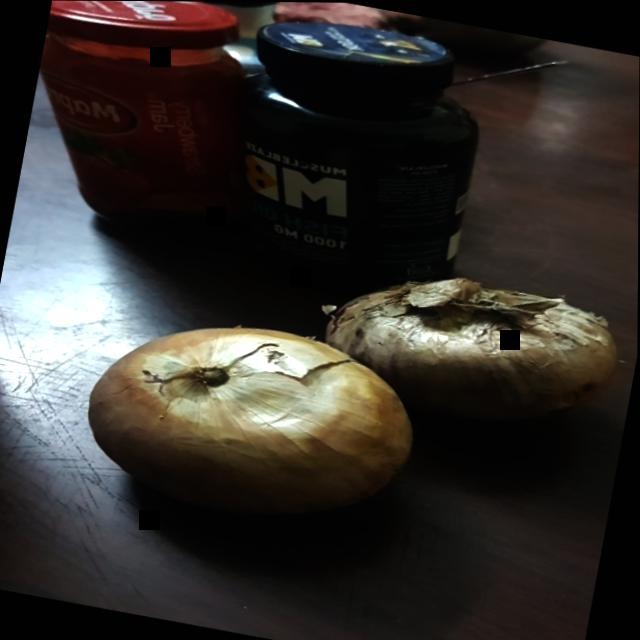onion: (65, 287, 444, 547), (307, 238, 639, 451)
